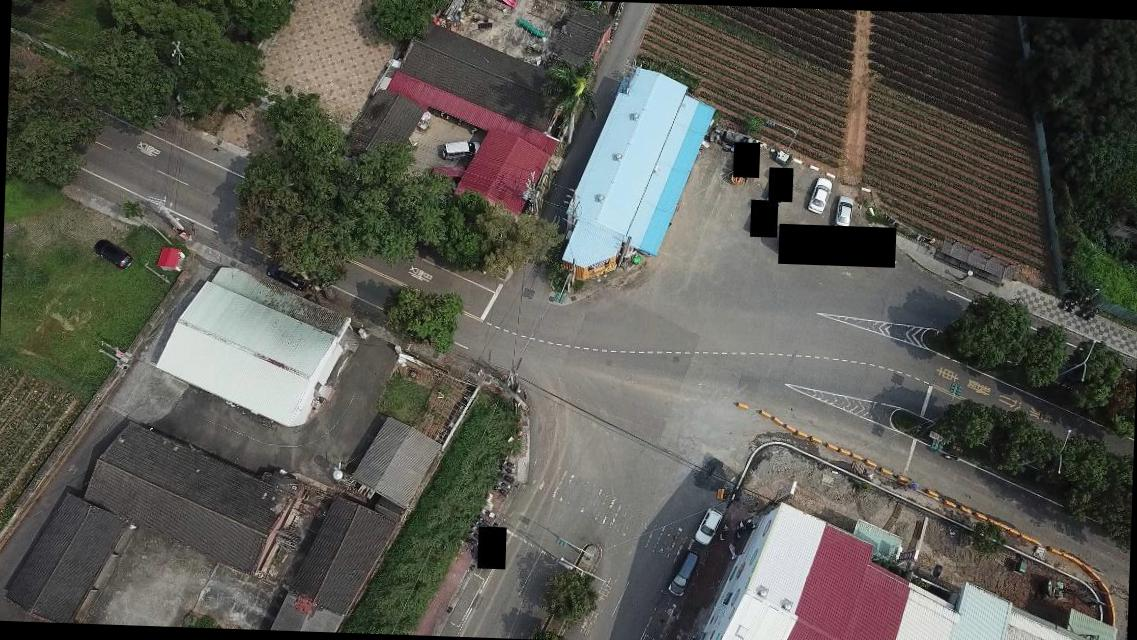vehicle: (666, 550, 700, 596), (92, 238, 132, 270), (694, 506, 722, 546), (440, 138, 482, 162), (807, 177, 832, 215), (428, 163, 469, 183), (835, 194, 854, 229)
